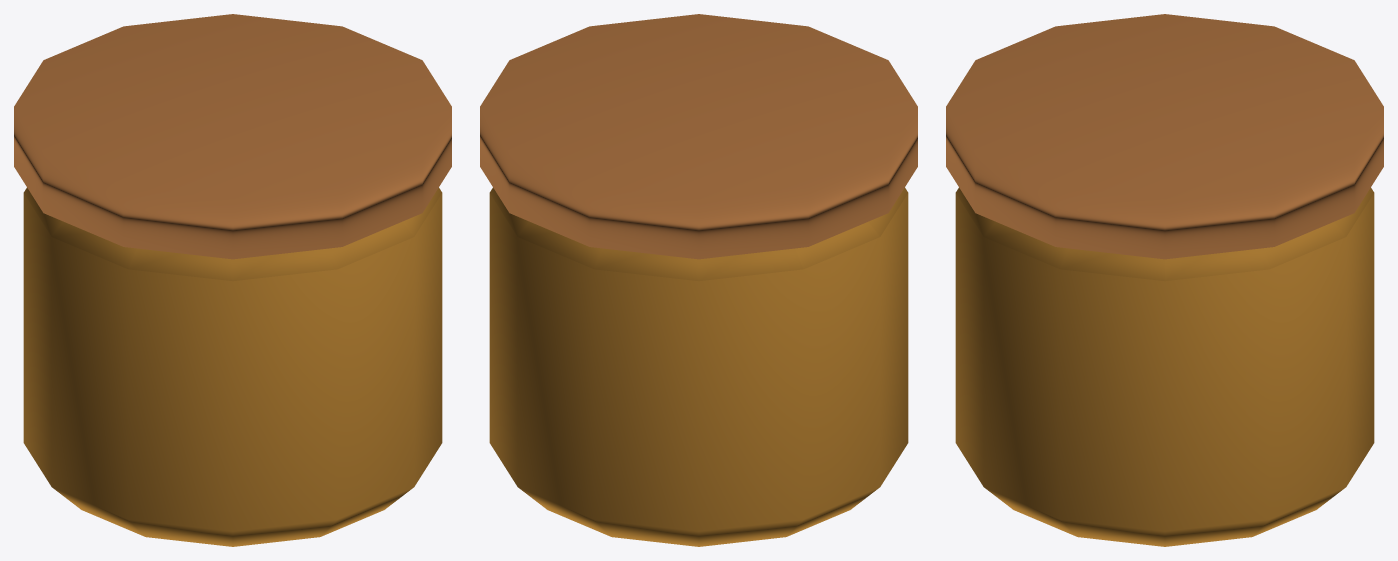
The model's file is topper_honey.glb.
3 renders of one model, left to right at view 1: azimuth 30°, elevation 25°; view 2: azimuth 150°, elevation 25°; view 3: azimuth 270°, elevation 25°, orthographic.
Visible parts, largest first — view 1: topper_honey; view 2: topper_honey; view 3: topper_honey.
Part boxes in pixels (box(x1,y1,x2,y2)): topper_honey: box(14, 14, 451, 546); topper_honey: box(480, 14, 917, 546); topper_honey: box(946, 14, 1383, 546).
Size of the model in its own units: 0.46 by 0.425 by 0.46.
